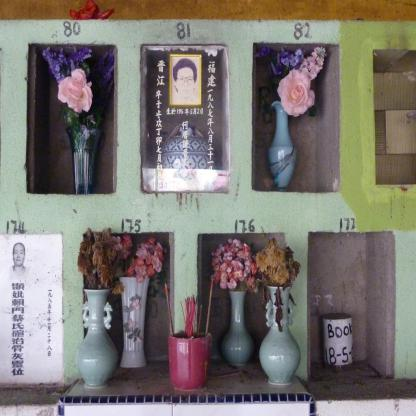vase: (258, 284, 302, 384), (76, 288, 118, 388), (118, 278, 150, 368), (267, 102, 298, 192), (222, 289, 254, 367), (66, 124, 100, 193)
